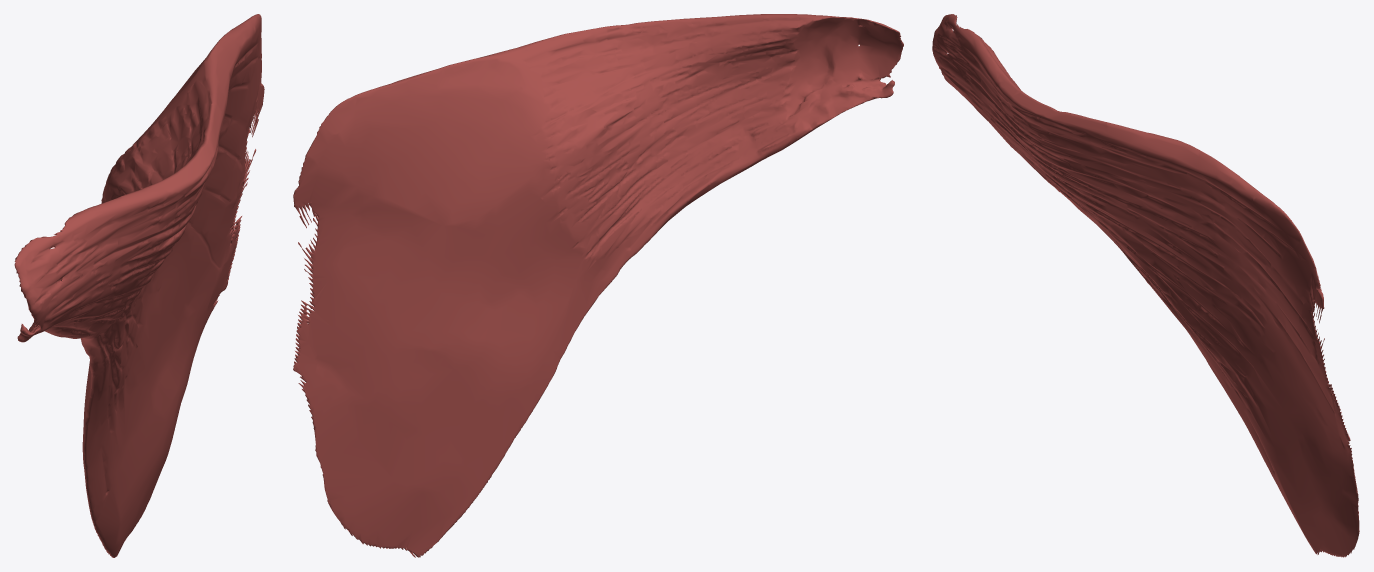
The model's file is FMA13414.glb.
3 renders of one model, left to right at view 1: azimuth 30°, elevation 25°; view 2: azimuth 150°, elevation 25°; view 3: azimuth 270°, elevation 25°, orthographic. The views are drawn at different scales.
Parts seen in each view (by area): view 1: FMA13414; view 2: FMA13414; view 3: FMA13414.
Part boxes in pixels (<box>): FMA13414: <box>14,14,264,557</box>; FMA13414: <box>293,14,903,557</box>; FMA13414: <box>932,14,1359,557</box>.
Bounding box in the file's own units: 0.1017 × 0.1111 × 0.1016.
